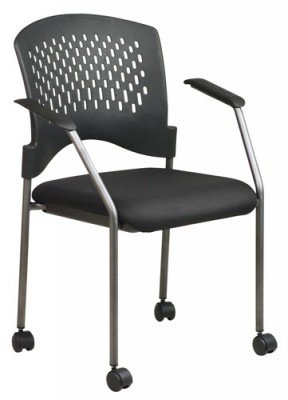chairs: (10, 15, 279, 392)
